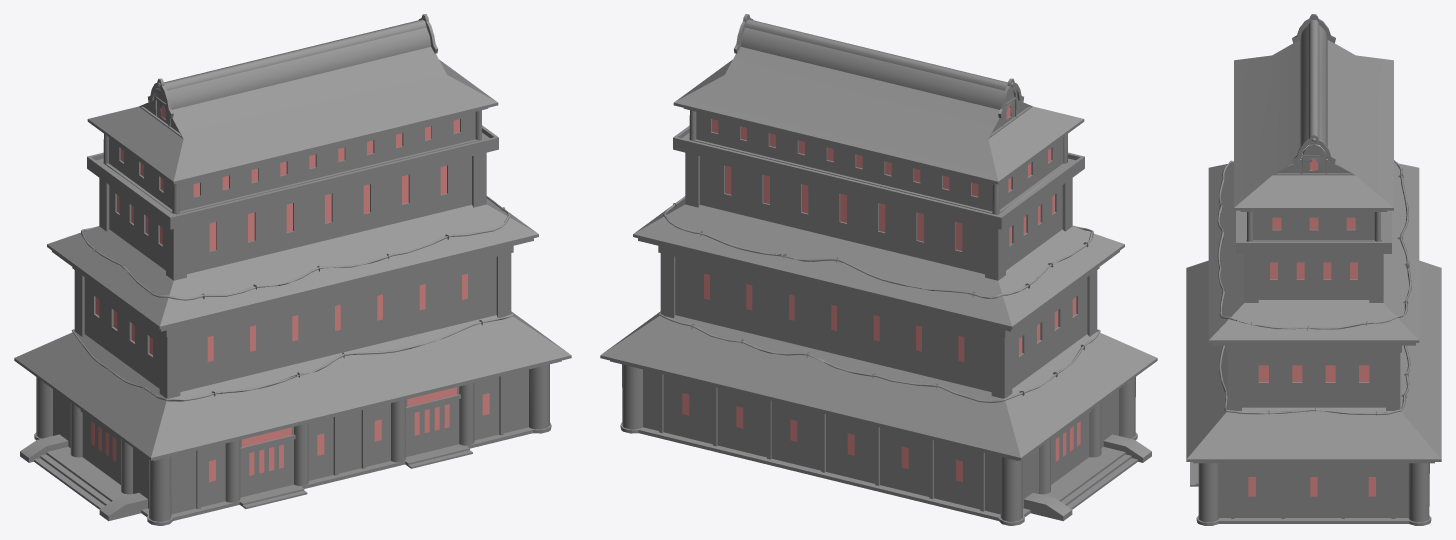
Rendered from SM_ENV_LKNVLD_CommonBuilding_B.gltf.
3 renders of one model, left to right at view 1: azimuth 30°, elevation 25°; view 2: azimuth 150°, elevation 25°; view 3: azimuth 270°, elevation 25°, orthographic. The views are drawn at different scales.
Parts seen in each view (by area): view 1: SM_ENV_LKNVLD_CommonBuilding_B; view 2: SM_ENV_LKNVLD_CommonBuilding_B; view 3: SM_ENV_LKNVLD_CommonBuilding_B.
Part boxes in pixels (x1=…): SM_ENV_LKNVLD_CommonBuilding_B: x1=14, y1=14, x2=571, y2=525; SM_ENV_LKNVLD_CommonBuilding_B: x1=600, y1=14, x2=1157, y2=525; SM_ENV_LKNVLD_CommonBuilding_B: x1=1186, y1=14, x2=1441, y2=525.
Size of the model in its own units: 42.43 by 35.69 by 22.88.
